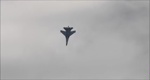maybay_muctieu: (60, 25, 75, 46)
